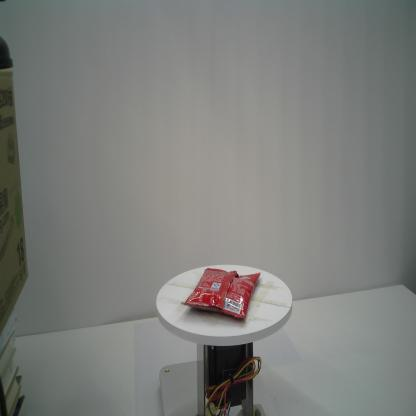Instant Drink: (181, 266, 261, 322)
